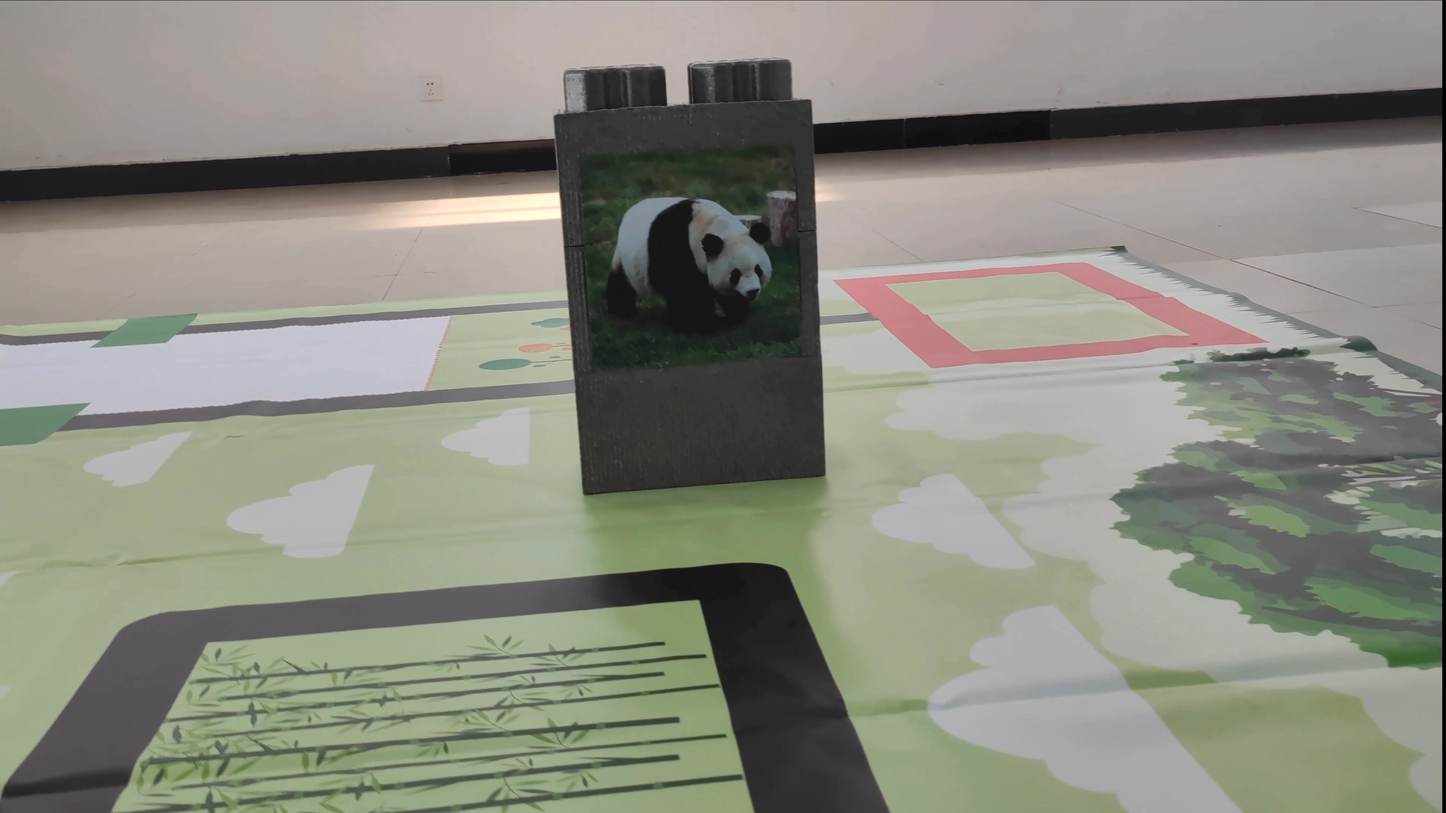panda: (601, 183, 782, 322)
